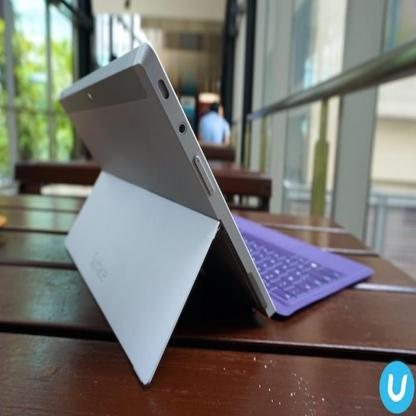board: (71, 44, 350, 378)
